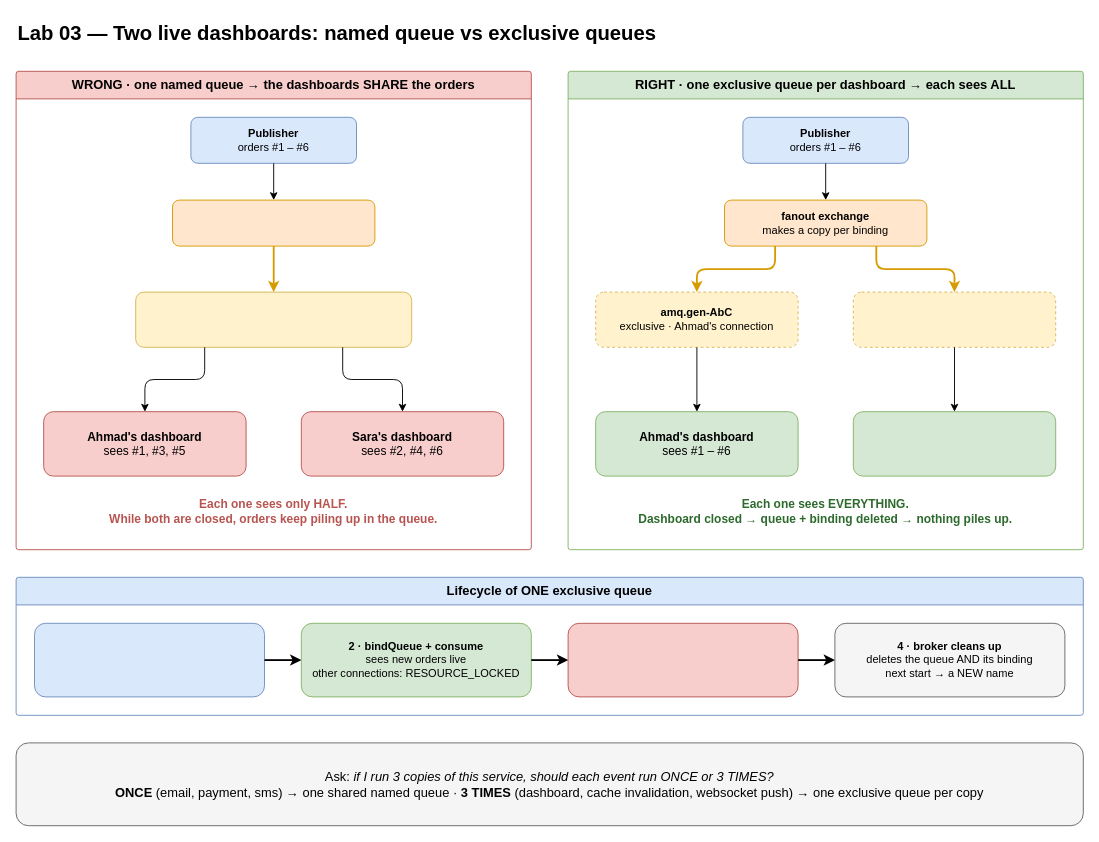
The diagram is 1099 pixels wide and 842 high, and some of its shapes have lost their labels. The shapes that lost their labels are listed below. From the top down, each one's centre as x and y in pixels, then its label:
At pixel 273 222: "fanout exchange".
At pixel 273 319: "lab03.dashboard ONE named queue".
At pixel 954 319: "amq.gen-XyZ exclusive · Sara's connection".
At pixel 954 443: "Sara's dashboard sees #1 – #6".
At pixel 149 659: "1 · connect assertQueue('', { exclusive: true }) → broker names it amq.gen-AbC".
At pixel 682 659: "3 · connection closes Ctrl+C · crash · kill -9 · network lost".
